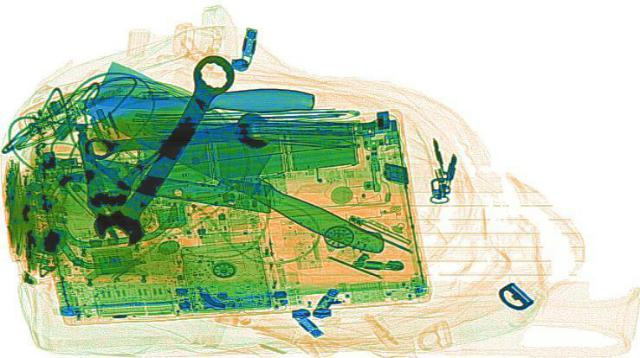Knife: (38, 59, 442, 255), (78, 87, 314, 110)
Wrench: (82, 52, 252, 245), (77, 111, 277, 164)
